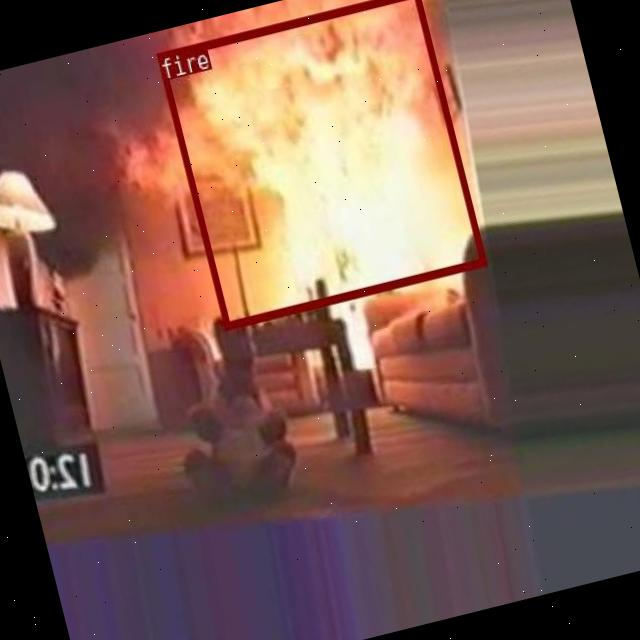fire: (155, 0, 486, 328)
